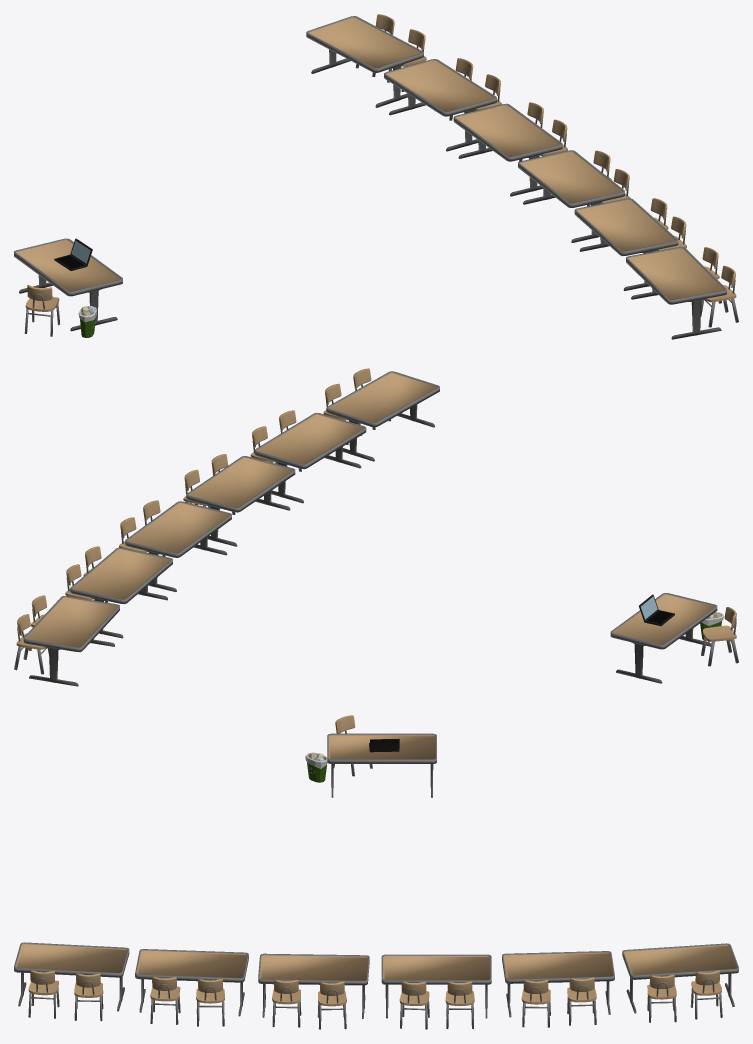
Rendered from d-roomcomp-r8-auditorium-in.glb.
3 views of the same model, one above another, from view 1: azimuth 30°, elevation 25°; view 2: azimuth 150°, elevation 25°; view 3: azimuth 270°, elevation 25° (orthographic). The views are drawn at different scales.
Parts seen in each view (by area): view 1: officeDesk.033, officeDesk.032, officeDesk.031, officeDesk.028, officeDesk.029, officeDesk.030, officeDesk.034, Chair.062, Chair.061, laptop.003; view 2: officeDesk.032, officeDesk.033, officeDesk.030, officeDesk.029, officeDesk.028, officeDesk.031, officeDesk.034, Chair.062, Chair.058, laptop.003; view 3: officeDesk.033, officeDesk.032, officeDesk.030, officeDesk.031, officeDesk.028, officeDesk.029, officeDesk.034, Chair.058, Chair.051, Chair.061, Chair.052, Chair.059 (+8 smaller).
Boxes of the visible parts, x1,y1,x2,y2 form: officeDesk.033: [626, 247, 726, 339]; officeDesk.032: [306, 16, 423, 107]; officeDesk.031: [384, 59, 496, 151]; officeDesk.028: [453, 103, 562, 196]; officeDesk.029: [518, 150, 624, 242]; officeDesk.030: [574, 198, 678, 290]; officeDesk.034: [14, 238, 122, 331]; Chair.062: [24, 285, 59, 336]; Chair.061: [701, 265, 738, 327]; laptop.003: [54, 238, 92, 270]; officeDesk.032: [23, 596, 119, 686]; officeDesk.033: [326, 371, 439, 461]; officeDesk.030: [254, 413, 366, 503]; officeDesk.029: [186, 456, 295, 546]; officeDesk.028: [125, 501, 231, 591]; officeDesk.031: [70, 547, 172, 638]; officeDesk.034: [610, 593, 717, 683]; Chair.062: [701, 607, 738, 666]; Chair.058: [14, 614, 49, 674]; laptop.003: [639, 594, 674, 625]; officeDesk.033: [14, 942, 129, 1011]; officeDesk.032: [622, 943, 738, 1013]; officeDesk.030: [135, 949, 248, 1016]; officeDesk.031: [502, 951, 614, 1017]; officeDesk.028: [381, 954, 491, 1018]; officeDesk.029: [258, 953, 369, 1018]; officeDesk.034: [327, 733, 436, 797]; Chair.058: [690, 970, 722, 1019]; Chair.051: [399, 981, 429, 1029]; Chair.061: [28, 970, 59, 1018]; Chair.052: [567, 977, 596, 1025]; Chair.059: [647, 974, 676, 1022].
Size of the model in its own units: 13.42 by 1.31 by 15.19.
Materials: 2 (2 with a texture image).
